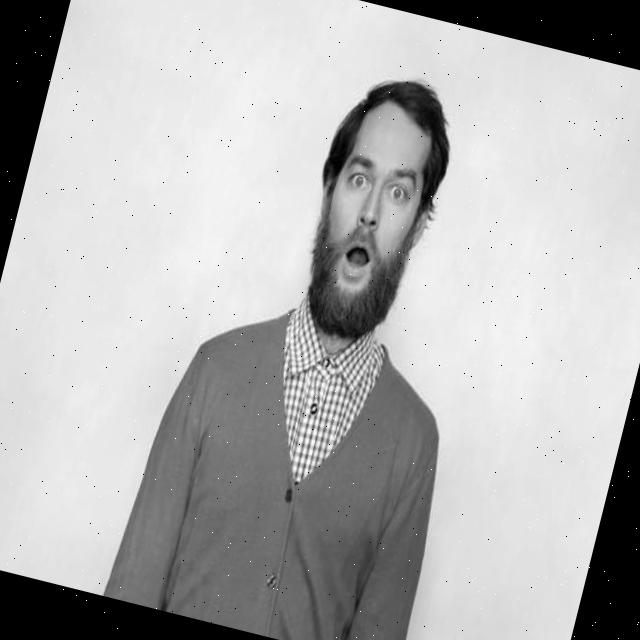Surprised: (302, 94, 442, 335)
